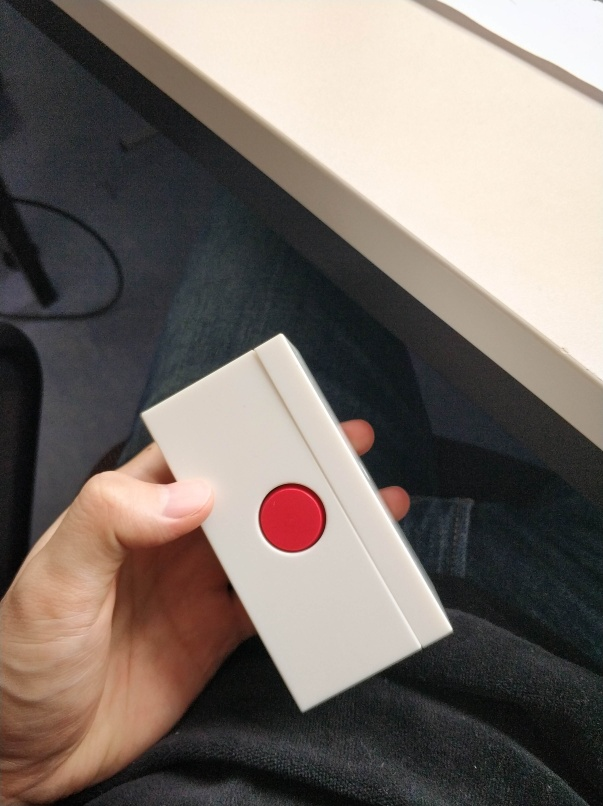white+white+red: (132, 328, 453, 716)
